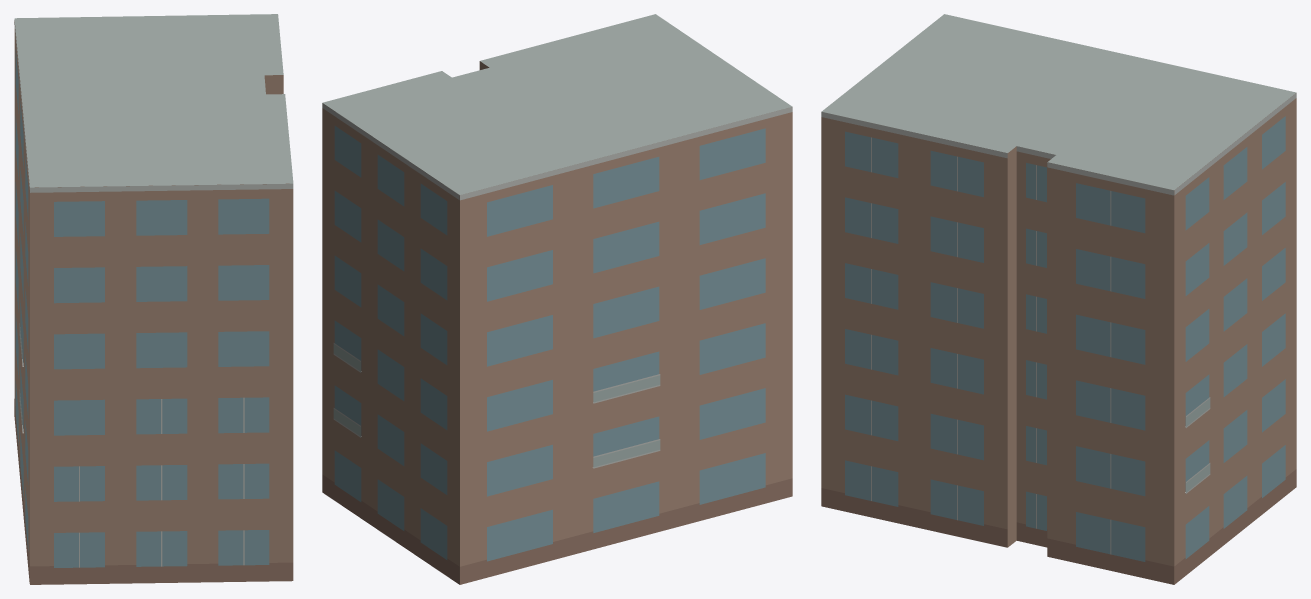
File: survey-upis-32659033.glb
3 renders of one model, left to right at view 1: azimuth 30°, elevation 25°; view 2: azimuth 150°, elevation 25°; view 3: azimuth 270°, elevation 25°, orthographic.
Visible parts, largest first — view 1: survey-upis-32659033.tmp; view 2: survey-upis-32659033.tmp; view 3: survey-upis-32659033.tmp.
Boxes of the visible parts, box(x1,y1,x2,y2) form: survey-upis-32659033.tmp: box(14, 14, 293, 584); survey-upis-32659033.tmp: box(322, 14, 792, 584); survey-upis-32659033.tmp: box(821, 14, 1296, 584).
Size of the model in its own units: 17.55 by 18.3 by 19.99.
